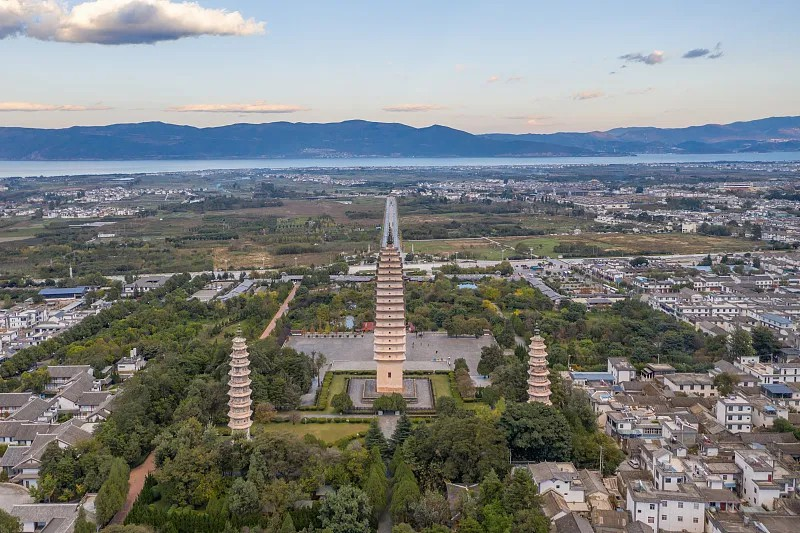ThreePagoda: (373, 224, 406, 392)
